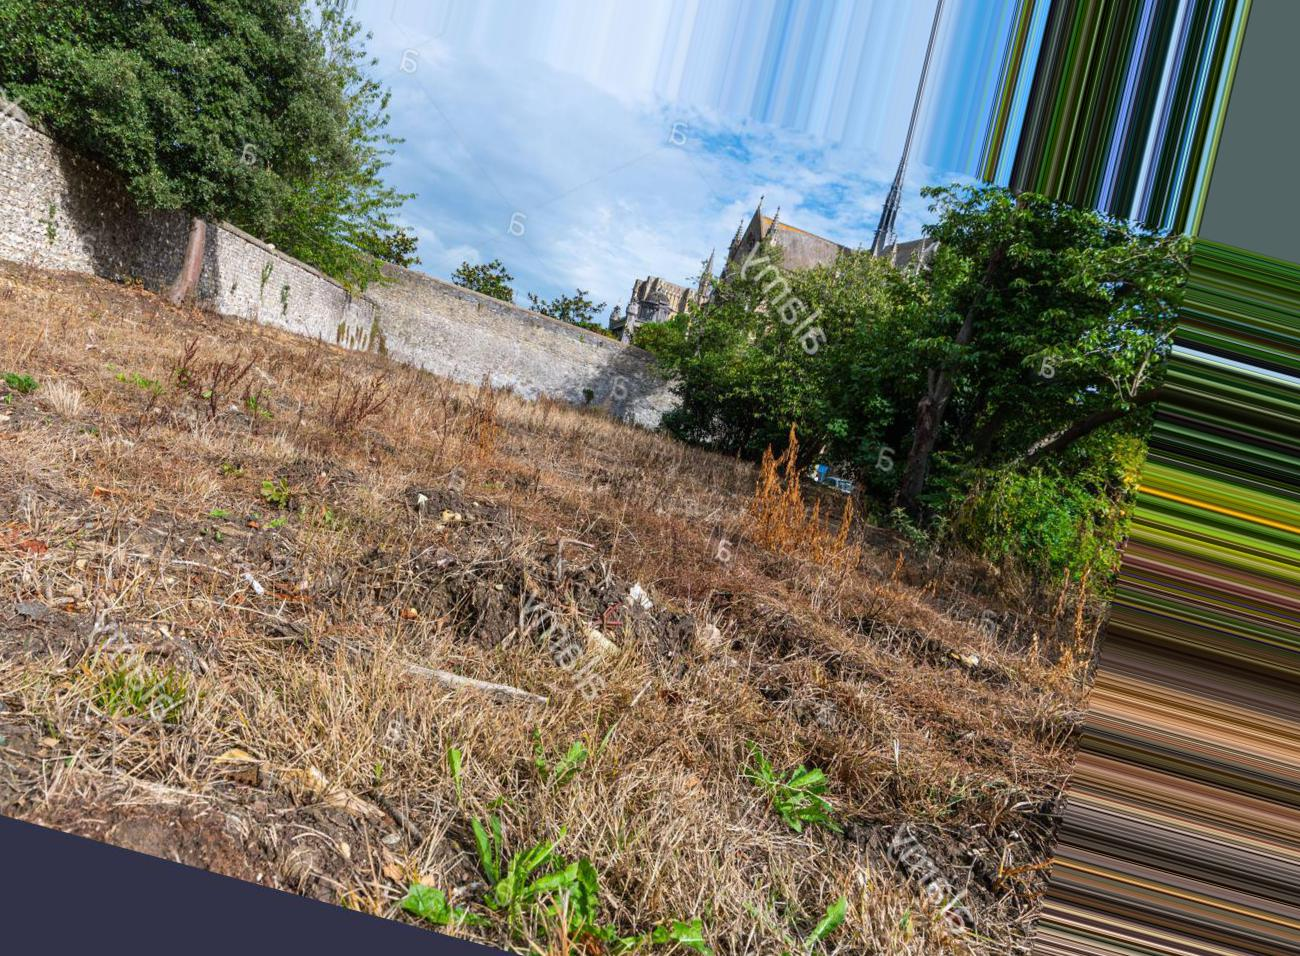patch: (392, 598, 750, 863), (41, 419, 295, 739), (343, 412, 691, 551), (803, 620, 1000, 845), (20, 300, 320, 420), (171, 763, 355, 860), (764, 855, 955, 945), (773, 524, 935, 599), (348, 352, 482, 412)
